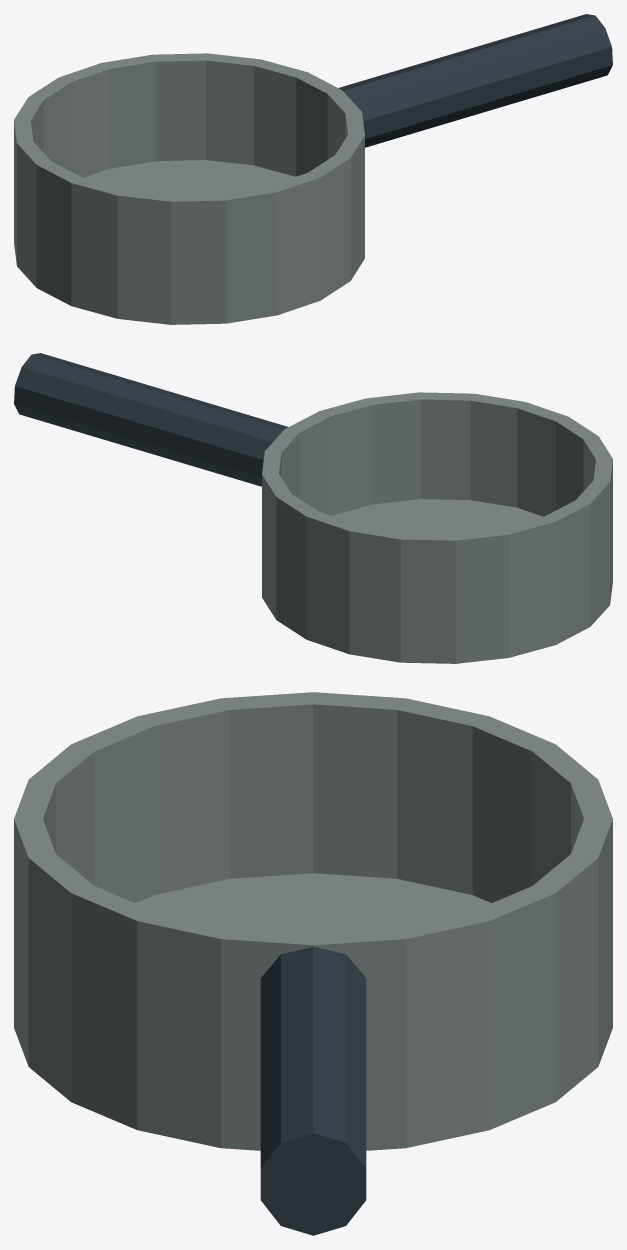
File: saucepan.glb
3 views of the same model, one above another, from view 1: azimuth 30°, elevation 25°; view 2: azimuth 150°, elevation 25°; view 3: azimuth 270°, elevation 25° (orthographic). The views are drawn at different scales.
Parts seen in each view (by area): view 1: saucepan; view 2: saucepan; view 3: saucepan.
Part boxes in pixels (bbox=[...]): saucepan: bbox=[14, 14, 612, 324]; saucepan: bbox=[14, 353, 612, 663]; saucepan: bbox=[14, 692, 612, 1235].
Size of the model in its own units: 0.4963 by 0.115 by 0.27.
